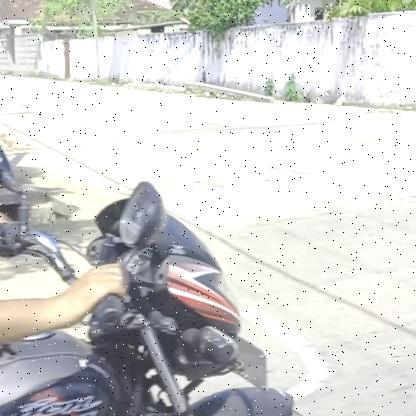motorcycle: (0, 125, 360, 416)
